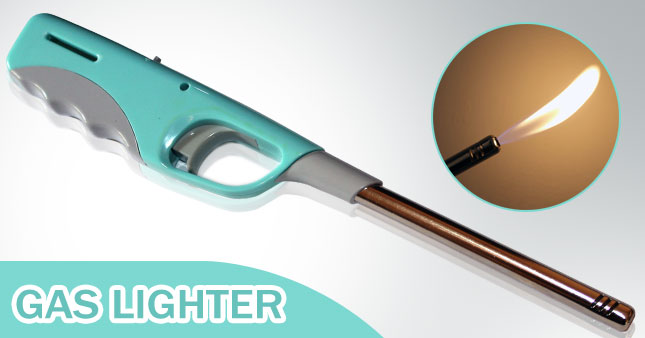Nonrec_Other: (12, 15, 634, 326)
